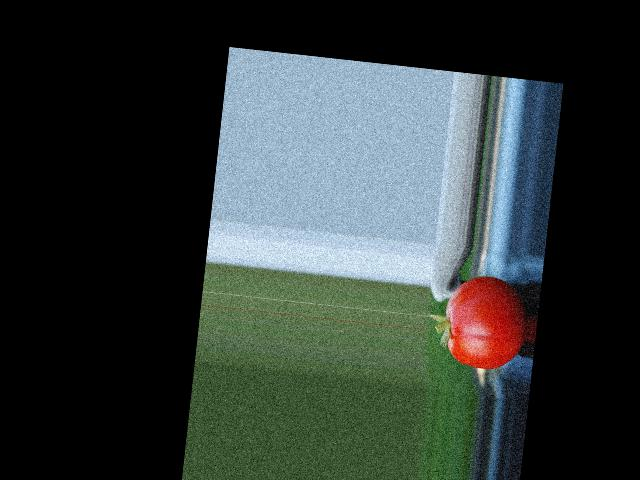tomato: (440, 272, 530, 373)
